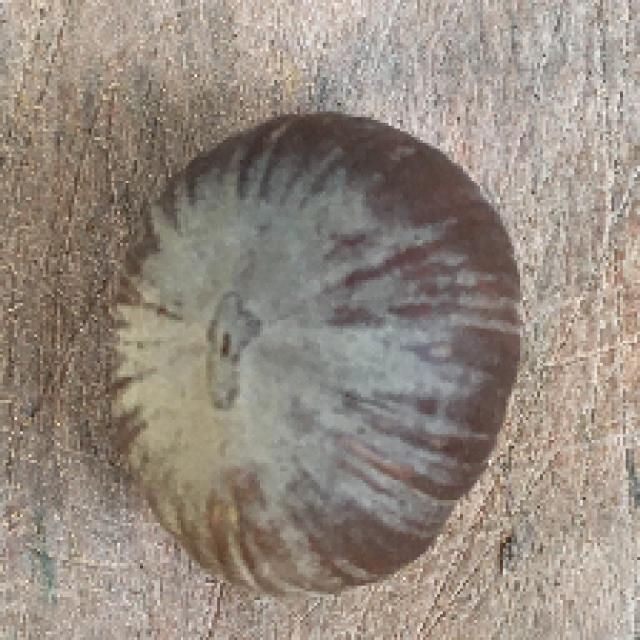damagedHazelnut: (107, 103, 525, 612)
